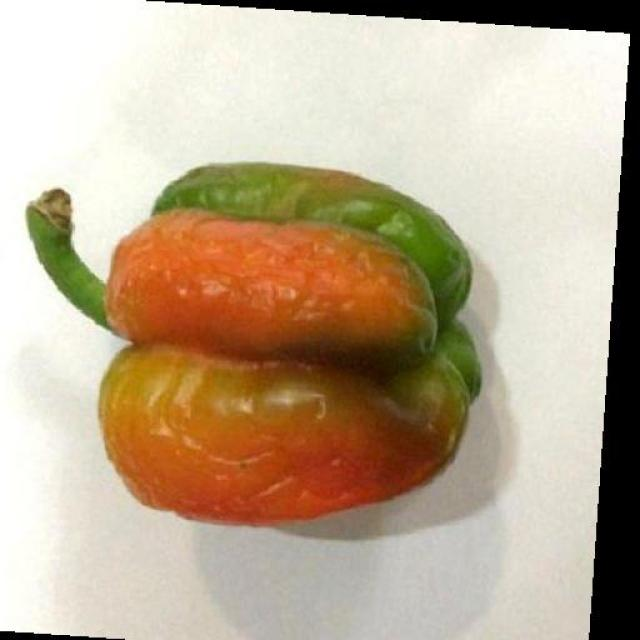Stale_Capsicum: (45, 159, 502, 496)
